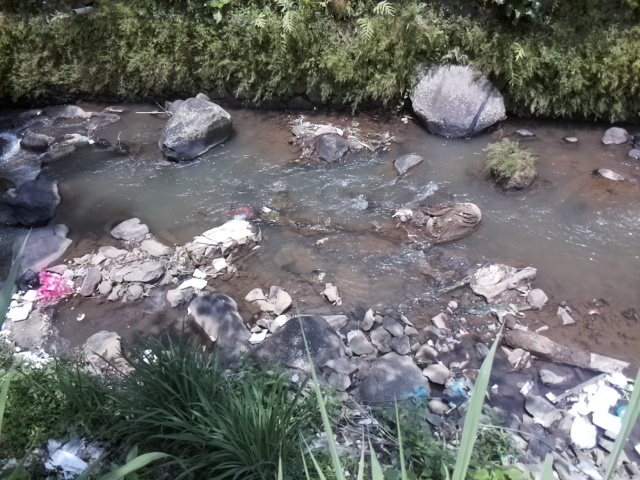Sampah_Plastik: (38, 264, 75, 306), (12, 266, 40, 293)
Sampah_Styrofoam: (571, 366, 627, 449)
